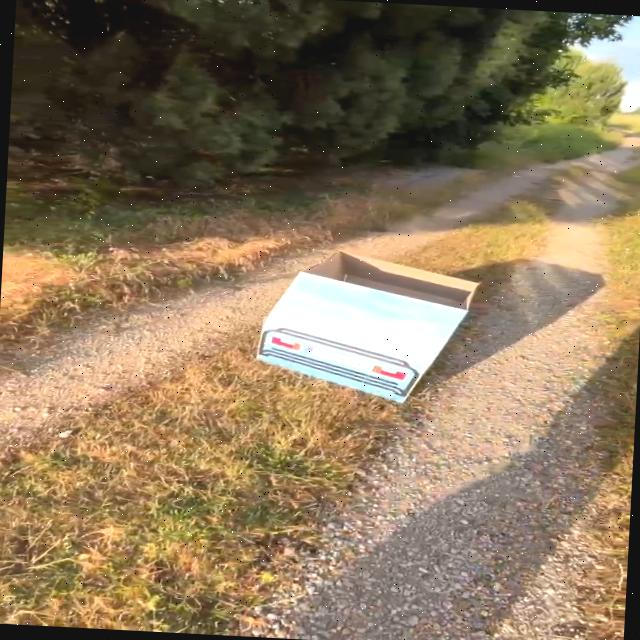blue_car: (232, 232, 518, 429)
